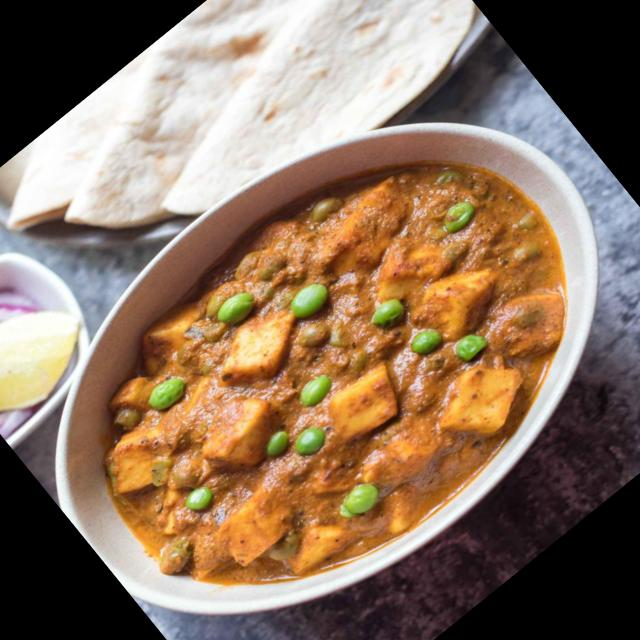roti: (145, 0, 468, 186)
